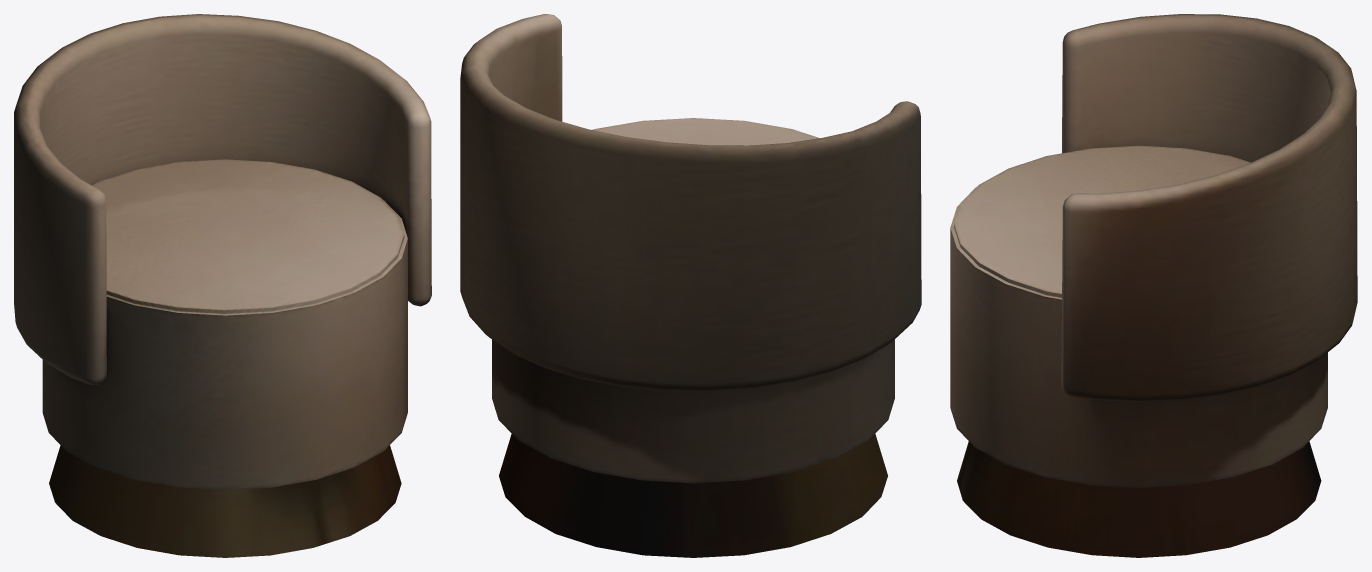
File: ff_tub_chair.glb
3 views of the same model, side by side, from view 1: azimuth 30°, elevation 25°; view 2: azimuth 150°, elevation 25°; view 3: azimuth 270°, elevation 25° (orthographic). The views are drawn at different scales.
Visible parts, largest first — view 1: TubChair; view 2: TubChair; view 3: TubChair.
Part boxes in pixels (x1,y1,x2,y2): TubChair: (14,14,431,557); TubChair: (460,14,921,557); TubChair: (950,14,1357,557).
Bounding box in the file's own units: 1.09 × 1.1 × 1.02.
1 material, 1 textured.
